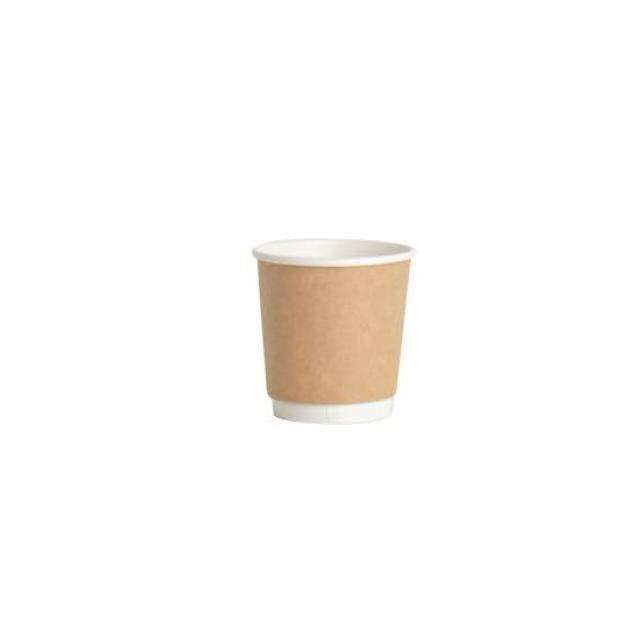paper cup: (236, 234, 422, 429)
